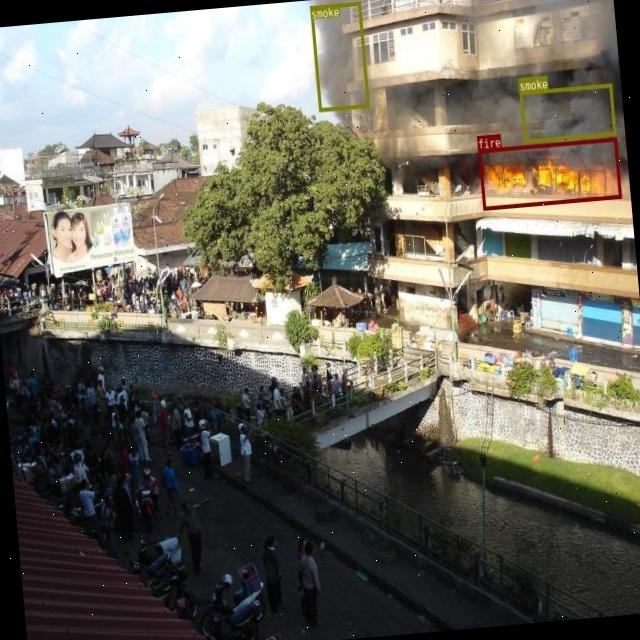fire: (478, 136, 620, 210)
smoke: (310, 1, 368, 110), (519, 82, 615, 142)
